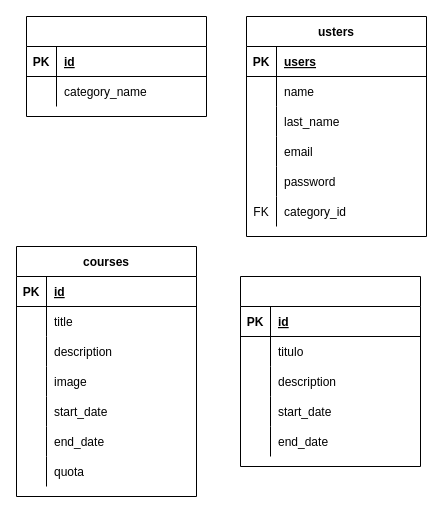
This 443x513 diagram has some shape labels left out. The box of each missing label's shape, as (x1, y1, x2, y2) in pixels:
categories: (26, 16, 206, 116)
units: (240, 276, 420, 466)
